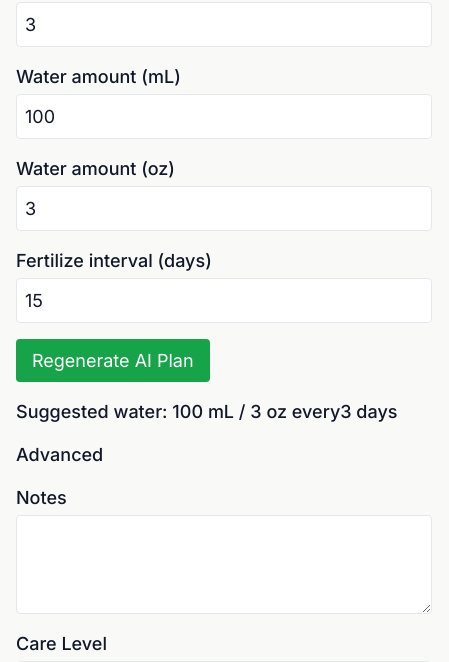
Test case: shows spinner while loading
The width and height of the screenshot is (449, 662).
(page scrolled)
Click the button "Regenerate AI Plan" at (113, 360), box left=16, top=339, right=210, bottom=382
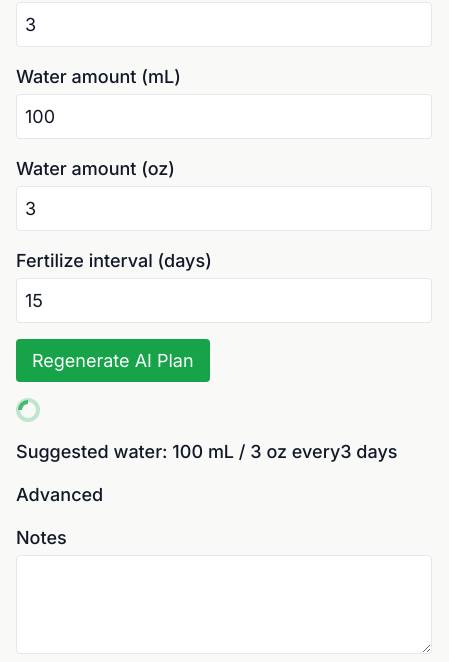
Check: the number field labelled "Water interval (days)" is shown, box left=16, top=2, right=432, bottom=47
Check: the icon with test id "spinner" is shown, box left=16, top=398, right=40, bottom=422
